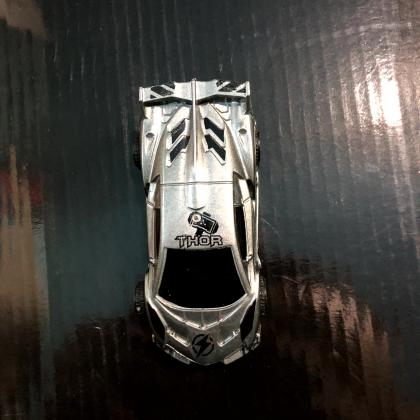Car: (138, 81, 264, 369)
